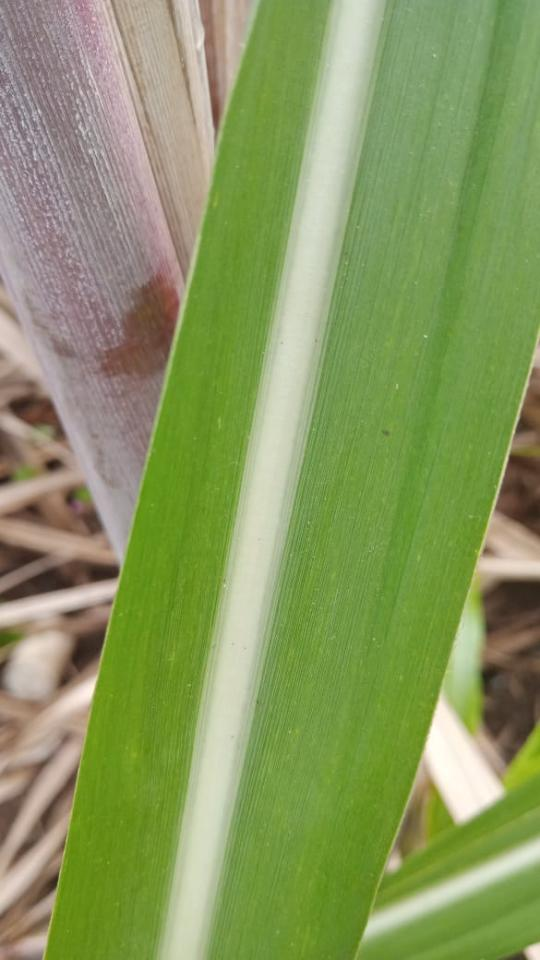Healthy: (42, 0, 539, 959)
